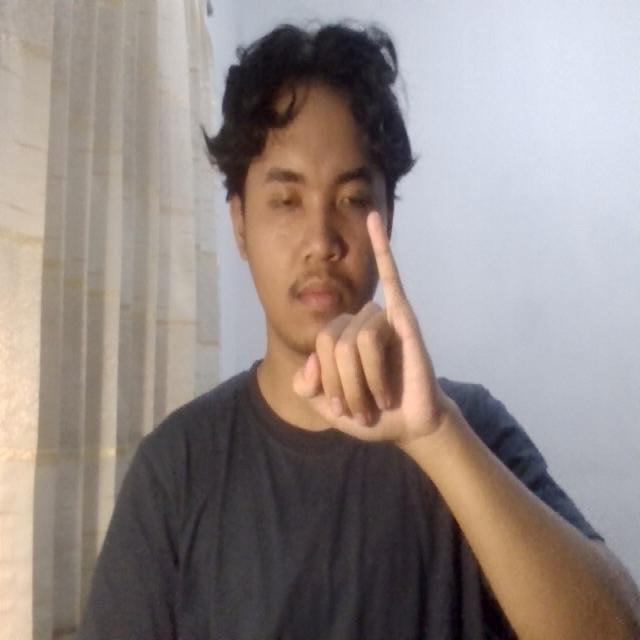Hello: (268, 201, 463, 464)
